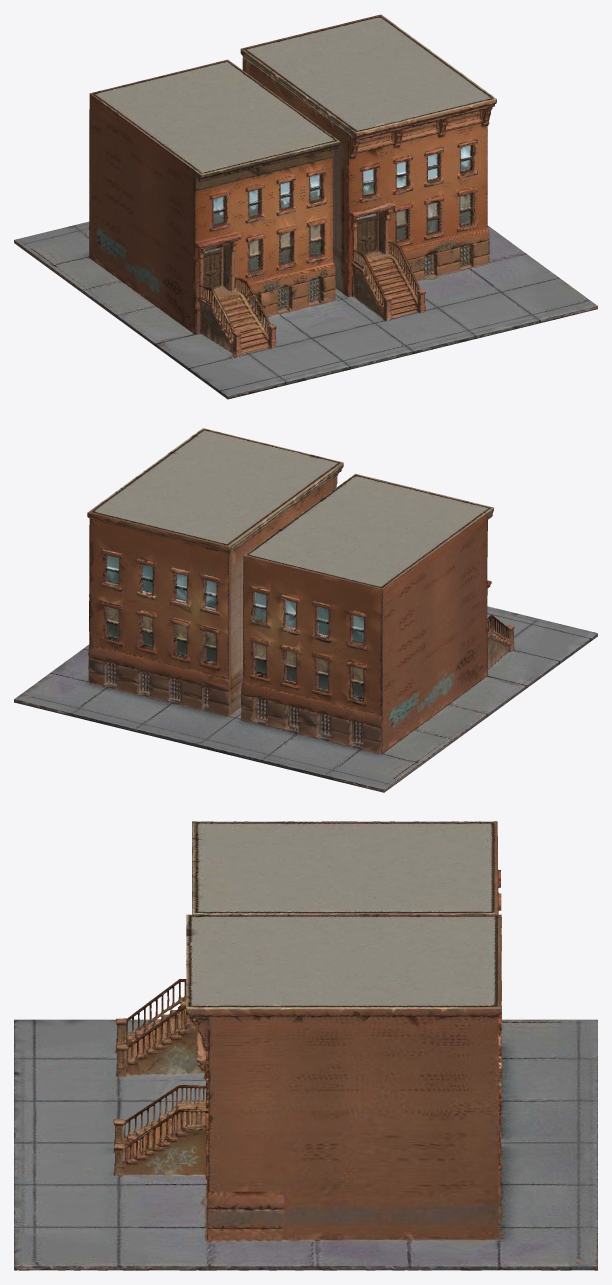
File: brownstones.glb
3 renders of one model, top to bottom at view 1: azimuth 30°, elevation 25°; view 2: azimuth 150°, elevation 25°; view 3: azimuth 270°, elevation 25°, orthographic. The views are drawn at different scales.
Visible parts, largest first — view 1: Mesh_0.001; view 2: Mesh_0.001; view 3: Mesh_0.001.
Boxes of the visible parts, left/top/right/bottom form: Mesh_0.001: left=14, top=14, right=597, bottom=399; Mesh_0.001: left=14, top=428, right=597, bottom=792; Mesh_0.001: left=14, top=821, right=597, bottom=1270.
Size of the model in its own units: 0.268 by 0.12 by 0.268.
1 material, 1 textured.
